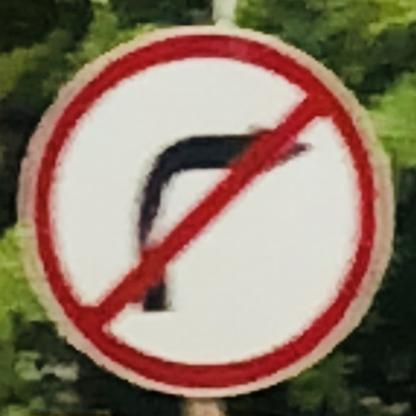No right turn: (23, 23, 390, 397)
